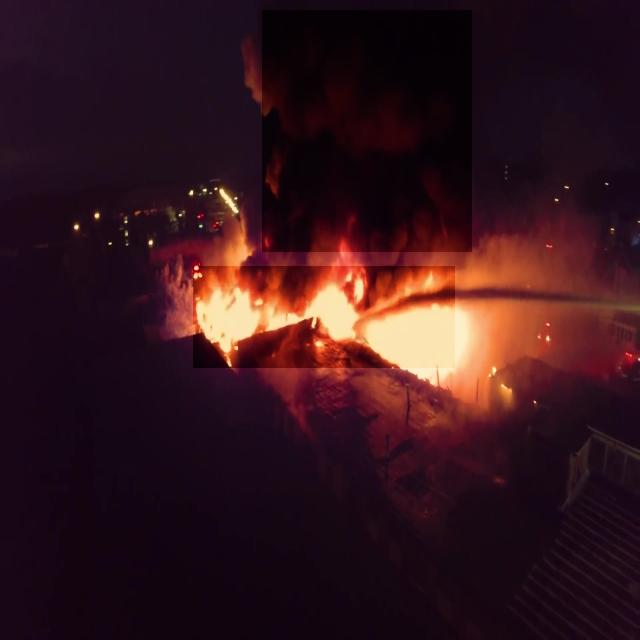Fire: (193, 266, 455, 368)
Smoke: (262, 10, 472, 252)
